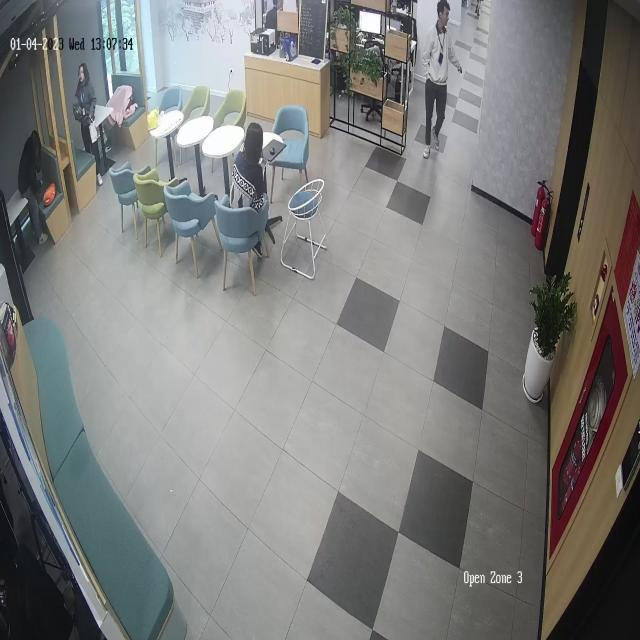person: (422, 0, 464, 159), (229, 120, 269, 249), (18, 129, 55, 244), (73, 63, 102, 182)
